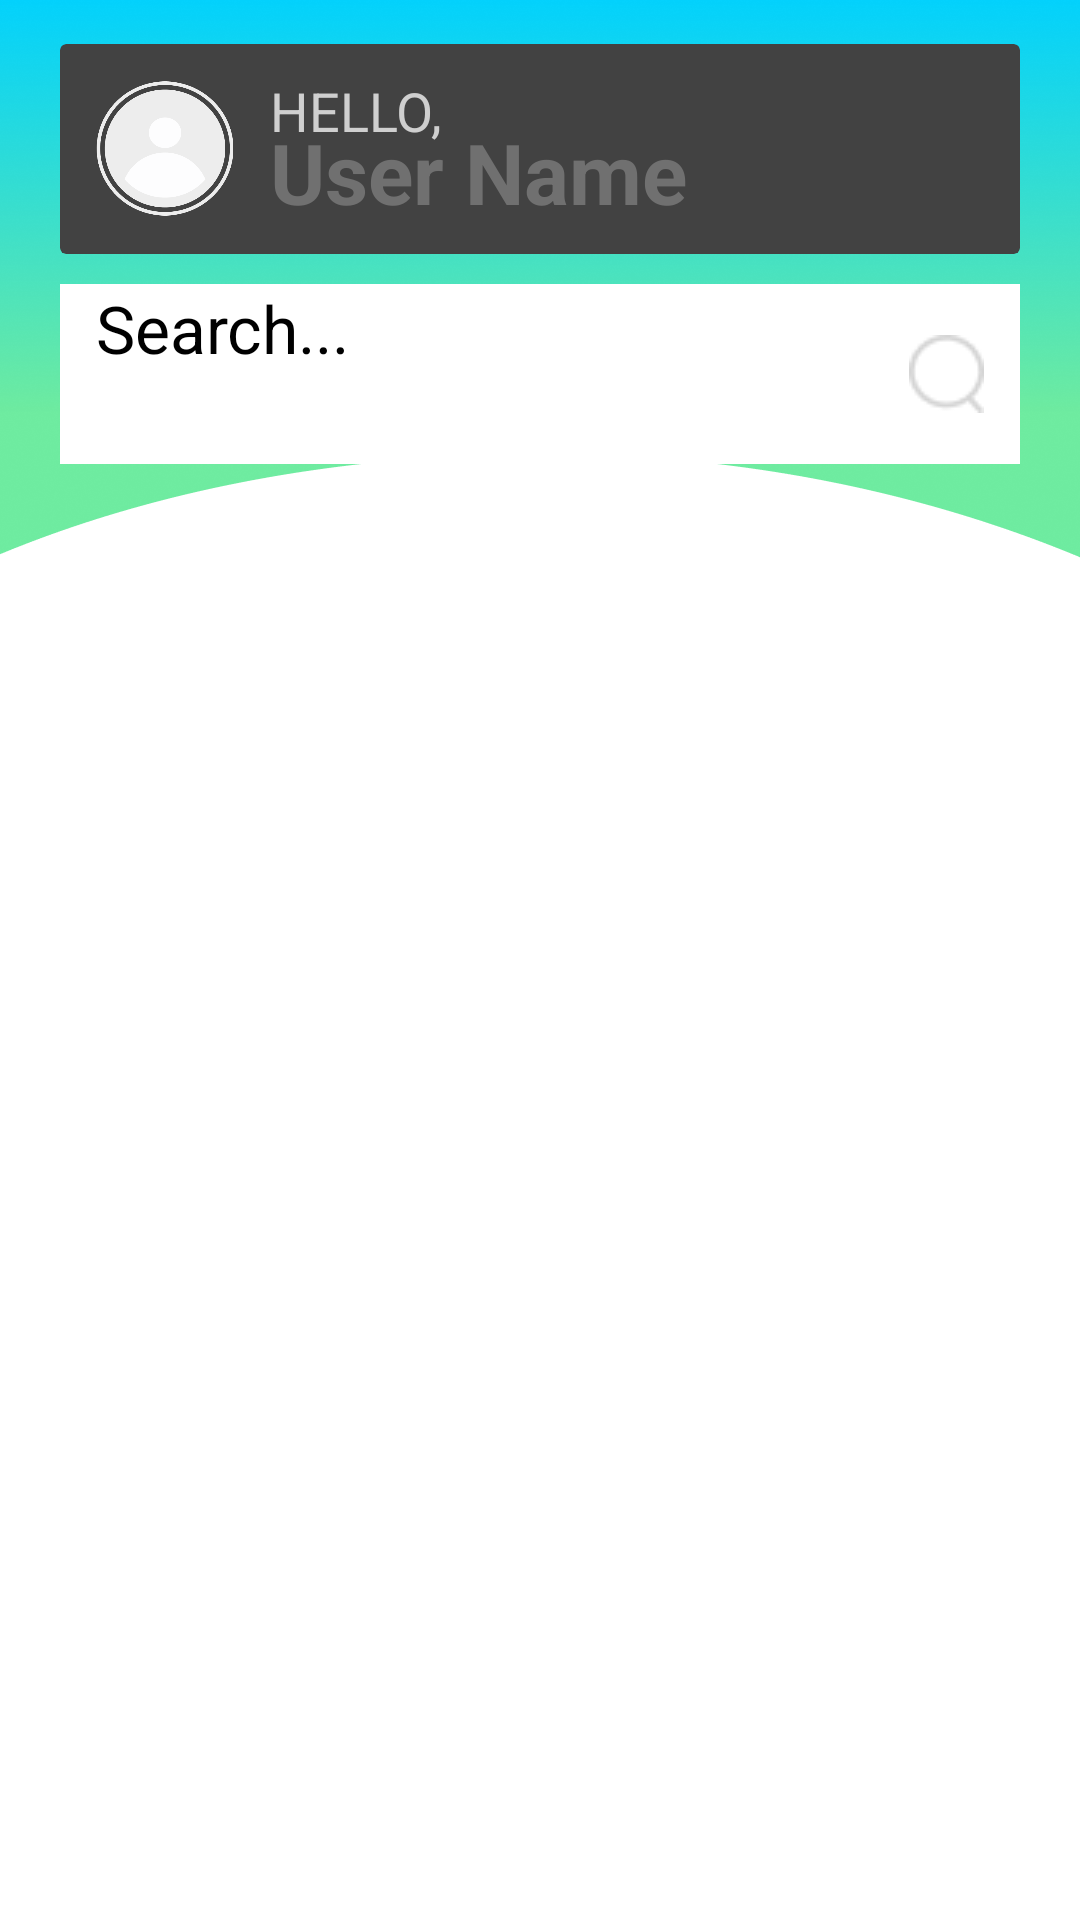

Point at icon controls on the screen. Image size 1080x1920, points as [x,y].
profile pic: [165,148]
